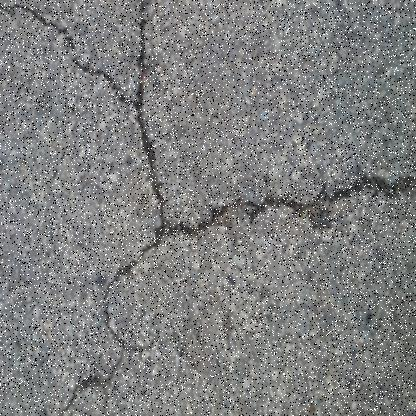Cracks: (100, 165, 416, 354), (0, 0, 169, 248), (44, 344, 127, 416)
